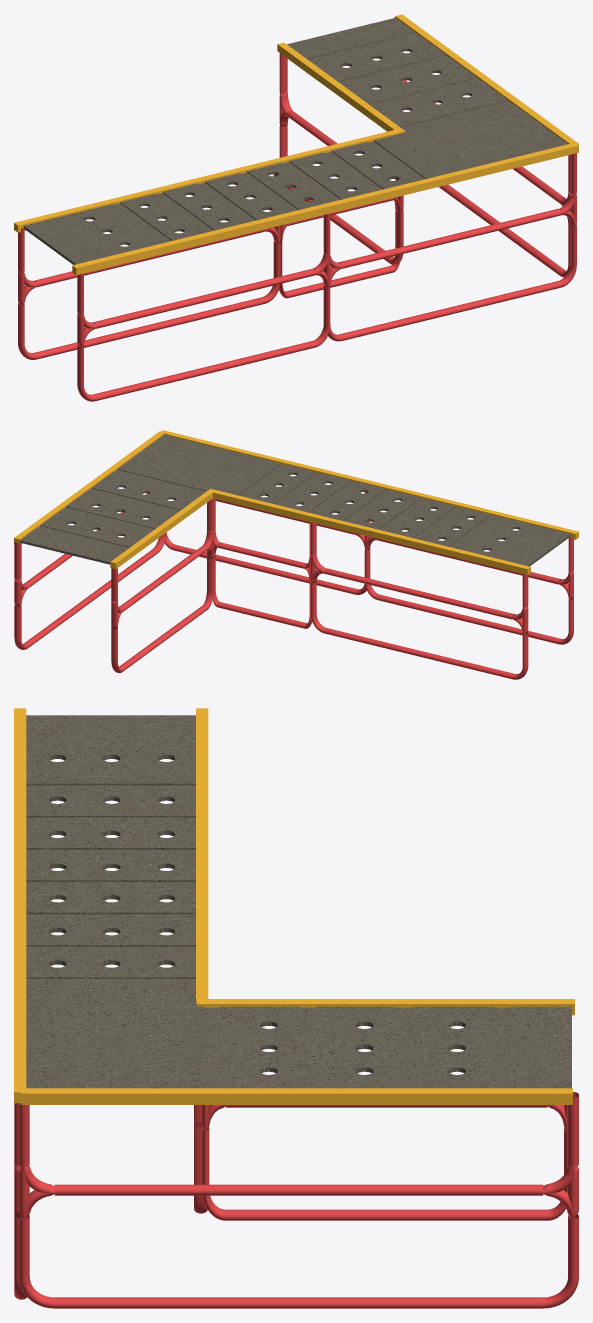
Rendered from Shell-Beach-bridge.fbx.
The picture shows the model from 3 angles, top to bottom: view 1: azimuth 30°, elevation 25°; view 2: azimuth 150°, elevation 25°; view 3: azimuth 270°, elevation 25°; orthographic projection. The views are drawn at different scales.
Visible parts, largest first — view 1: Plane, Plane.005, Plane.006, Cube.003, Cube.002; view 2: Plane, Plane.006, Plane.005, Cube.002, Cube.003; view 3: Plane, Plane.005, Cube.003, Plane.006, Cube.002.
Part boxes in pixels (x1=…): Plane: x1=23, y1=18, x2=567, y2=264; Plane.005: x1=77, y1=17, x2=576, y2=401; Plane.006: x1=18, y1=53, x2=403, y2=359; Cube.003: x1=72, y1=14, x2=578, y2=275; Cube.002: x1=14, y1=42, x2=405, y2=232; Plane: x1=20, y1=435, x2=570, y2=566; Plane.006: x1=111, y1=498, x2=528, y2=679; Plane.005: x1=14, y1=492, x2=573, y2=649; Cube.002: x1=110, y1=489, x2=530, y2=574; Cube.003: x1=14, y1=430, x2=578, y2=543; Plane: x1=26, y1=715, x2=571, y2=1088; Plane.005: x1=14, y1=1092, x2=578, y2=1308; Cube.003: x1=14, y1=708, x2=572, y2=1104; Plane.006: x1=194, y1=1105, x2=568, y2=1220; Cube.002: x1=196, y1=708, x2=574, y2=1015.
Bounding box in the file's own units: 362 × 95.43 × 224.
